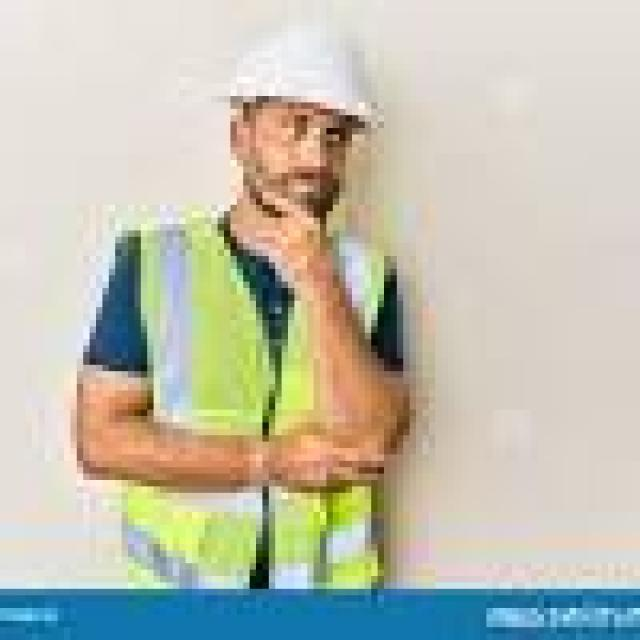safetyhelmet: (216, 25, 383, 179)
